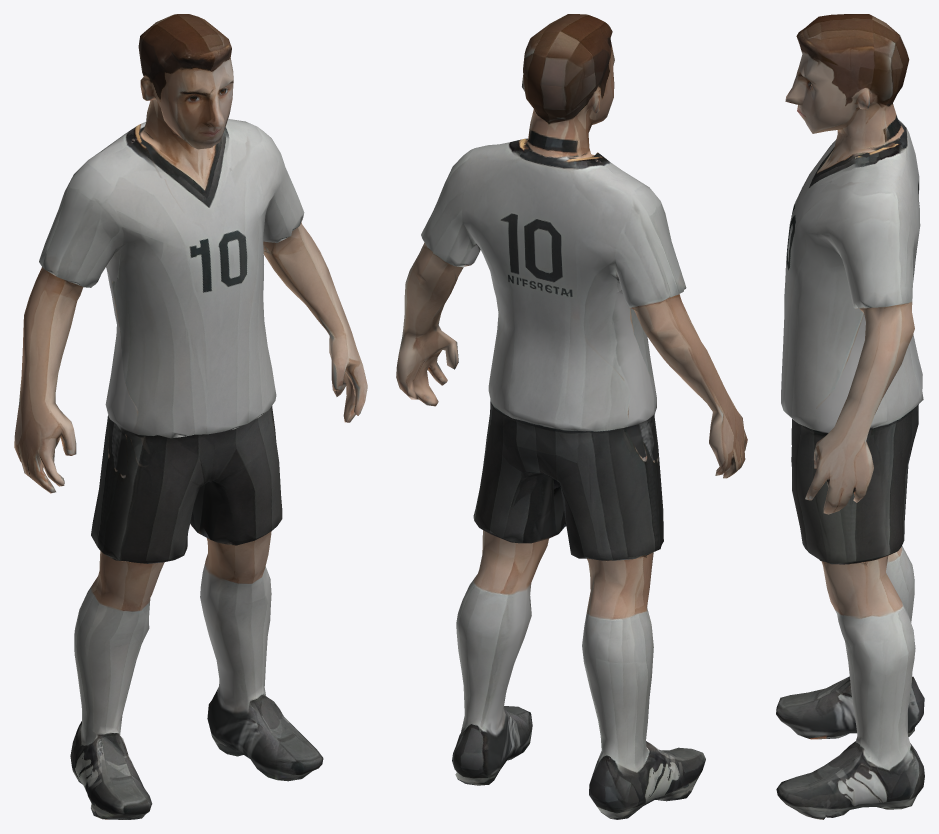
Rendered from Soccer_Texture.fbx.
3 views of the same model, side by side, from view 1: azimuth 30°, elevation 25°; view 2: azimuth 150°, elevation 25°; view 3: azimuth 270°, elevation 25° (orthographic).
Visible parts, largest first — view 1: texture_mapping; view 2: texture_mapping; view 3: texture_mapping.
Part boxes in pixels (x1,y1,x2,y2): texture_mapping: (14,14,367,819); texture_mapping: (396,14,747,819); texture_mapping: (776,14,924,819).
Bounding box in the file's own units: 45.8 × 100 × 17.95.
1 material, 1 textured.
